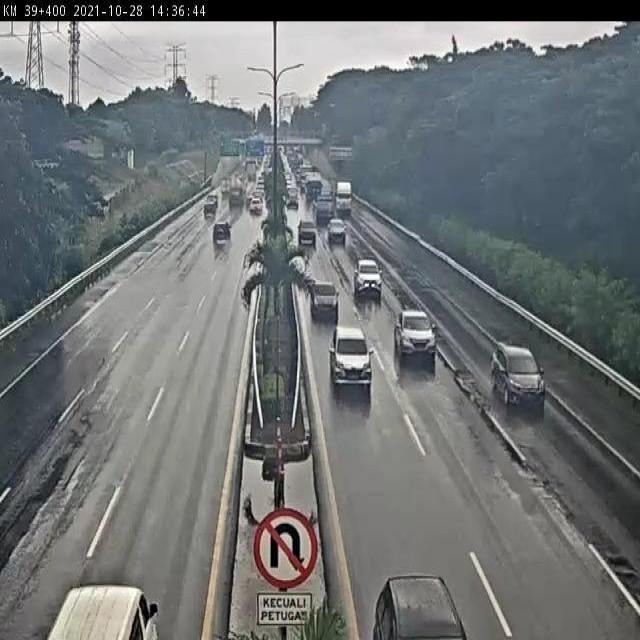big truck: (333, 186, 350, 210)
car: (376, 528, 447, 632), (53, 567, 147, 636), (394, 300, 443, 377), (487, 342, 533, 418), (324, 332, 375, 388), (355, 261, 382, 296), (312, 278, 336, 314), (296, 215, 319, 241), (214, 225, 233, 247), (322, 216, 340, 239), (248, 201, 262, 223), (202, 197, 218, 212)
